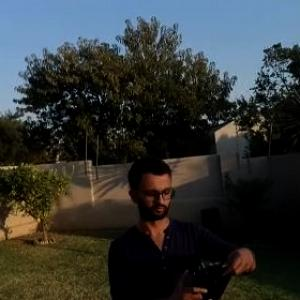follow: (105, 150, 264, 299)
